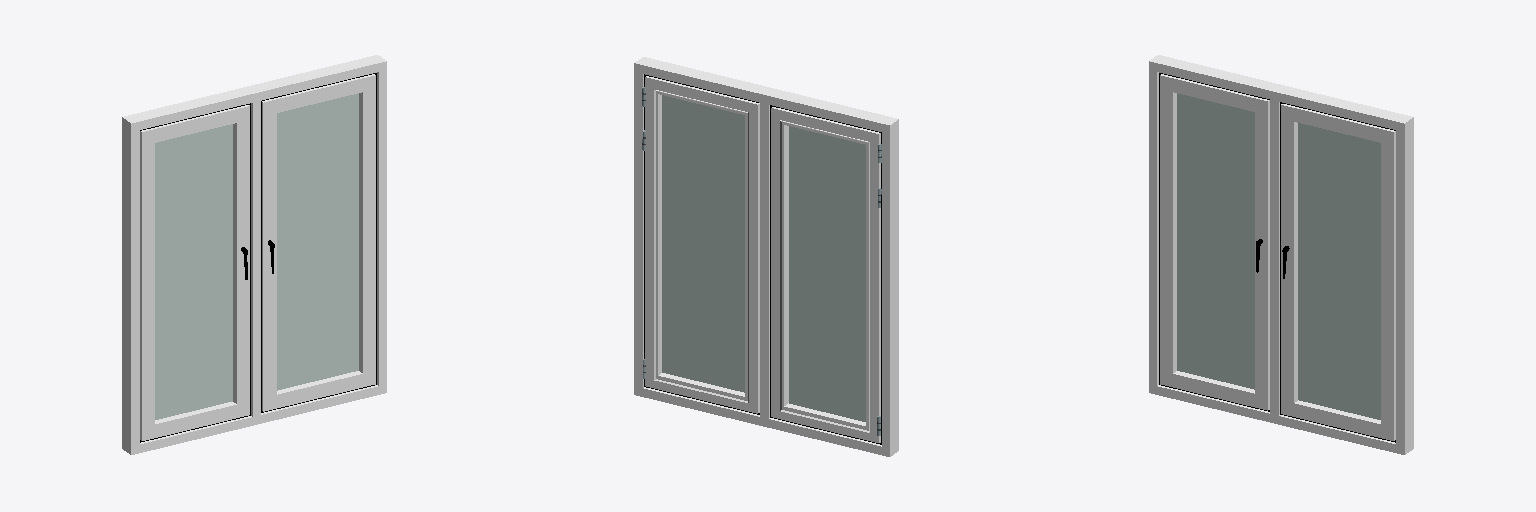
3 renders of one model, left to right at view 1: azimuth 30°, elevation 25°; view 2: azimuth 150°, elevation 25°; view 3: azimuth 330°, elevation 25°, orthographic.
Visible parts, largest first — view 1: group[number redacted], group[number redacted], group[number redacted], group[number redacted], group[number redacted], group[number redacted], group[number redacted], group[number redacted], group[number redacted], group[number redacted], group[number redacted], group[number redacted] (+3 smaller); view 2: group[number redacted], group[number redacted], group[number redacted], group[number redacted], group[number redacted], group[number redacted], group[number redacted], group[number redacted], group[number redacted], group[number redacted], group[number redacted], group[number redacted] (+6 smaller); view 3: group[number redacted], group[number redacted], group[number redacted], group[number redacted], group[number redacted], group[number redacted], group[number redacted], group[number redacted], group[number redacted], group[number redacted], group[number redacted], group[number redacted] (+3 smaller).
Boxes of the visible parts, box(x1,y1,x2,y2) form: group[number redacted]: box(277, 93, 358, 390); group[number redacted]: box(155, 124, 232, 419); group[number redacted]: box(122, 117, 139, 454); group[number redacted]: box(359, 74, 375, 386); group[number redacted]: box(233, 105, 249, 406); group[number redacted]: box(140, 128, 154, 440); group[number redacted]: box(124, 55, 386, 131); group[number redacted]: box(262, 98, 276, 400); group[number redacted]: box(377, 63, 386, 385); group[number redacted]: box(251, 101, 260, 420); group[number redacted]: box(140, 384, 386, 452); group[number redacted]: box(262, 371, 362, 411); group[number redacted]: box(662, 95, 744, 392); group[number redacted]: box(789, 126, 865, 421); group[number redacted]: box(882, 117, 898, 456); group[number redacted]: box(771, 107, 788, 405); group[number redacted]: box(634, 57, 896, 131); group[number redacted]: box(645, 76, 661, 385); group[number redacted]: box(745, 100, 759, 401); group[number redacted]: box(866, 130, 880, 442); group[number redacted]: box(760, 98, 769, 422); group[number redacted]: box(634, 72, 643, 396); group[number redacted]: box(643, 387, 881, 454); group[number redacted]: box(646, 373, 759, 413); group[number redacted]: box(1298, 123, 1380, 419); group[number redacted]: box(1177, 93, 1254, 389); group[number redacted]: box(1396, 118, 1413, 454); group[number redacted]: box(1160, 74, 1176, 386); group[number redacted]: box(1281, 104, 1297, 405); group[number redacted]: box(1381, 128, 1395, 440); group[number redacted]: box(1150, 55, 1413, 129); group[number redacted]: box(1255, 97, 1269, 398); group[number redacted]: box(1149, 55, 1158, 394); group[number redacted]: box(1270, 100, 1279, 419); group[number redacted]: box(1157, 385, 1404, 454); group[number redacted]: box(1281, 400, 1380, 437).
Size of the model in its own units: 2.13 by 2.64 by 0.2067.